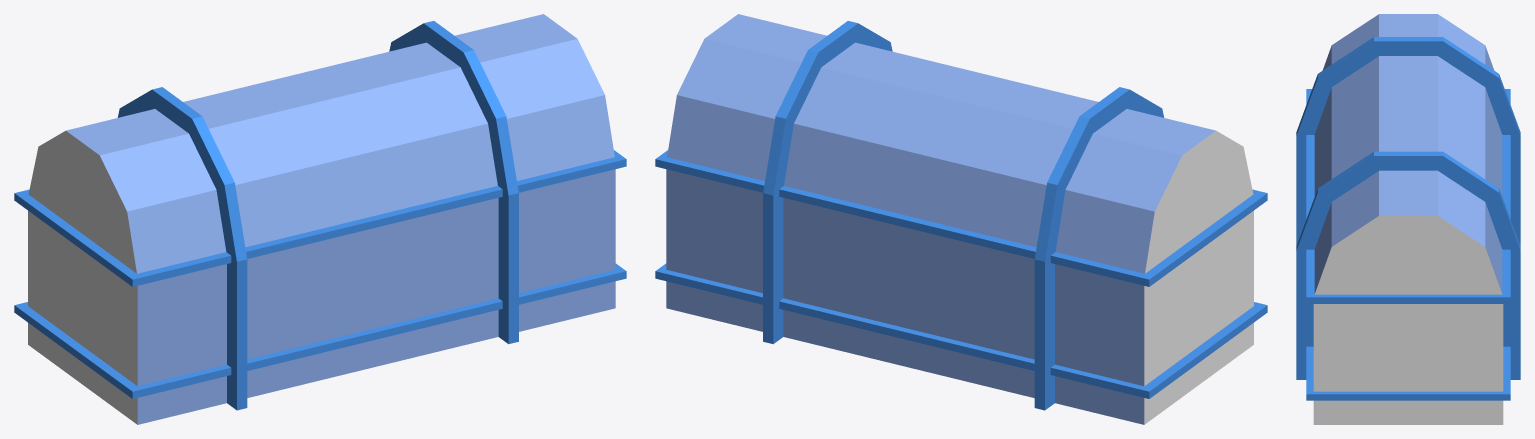
Rendered from Building_043.fbx.
3 views of the same model, side by side, from view 1: azimuth 30°, elevation 25°; view 2: azimuth 150°, elevation 25°; view 3: azimuth 270°, elevation 25° (orthographic). The views are drawn at different scales.
Parts seen in each view (by area): view 1: Building_043; view 2: Building_043; view 3: Building_043.
Boxes of the visible parts, x1,y1,x2,y2 form: Building_043: (14, 14, 626, 424); Building_043: (655, 14, 1267, 424); Building_043: (1296, 14, 1520, 424).
Size of the model in its own units: 46.37 by 23.22 by 21.1.
